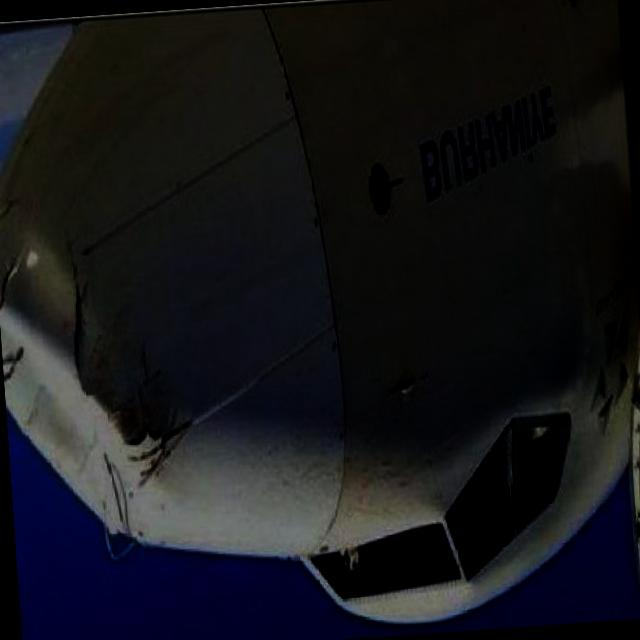dent: (1, 306, 178, 562)
